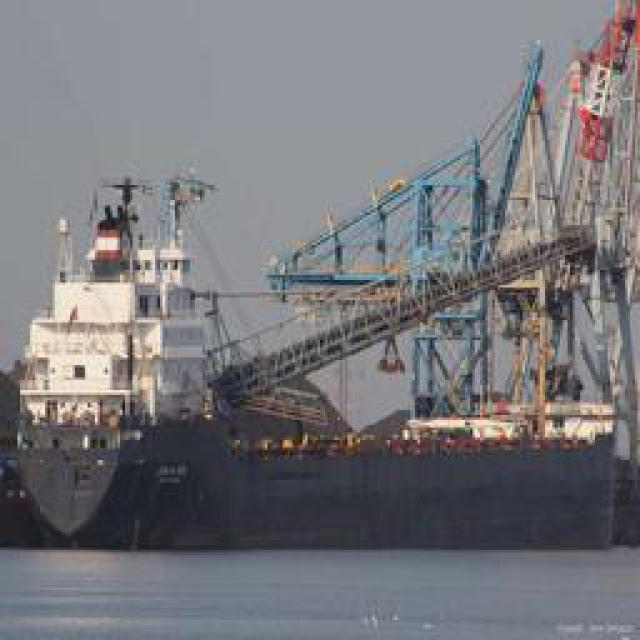Ship: (4, 166, 237, 549)
